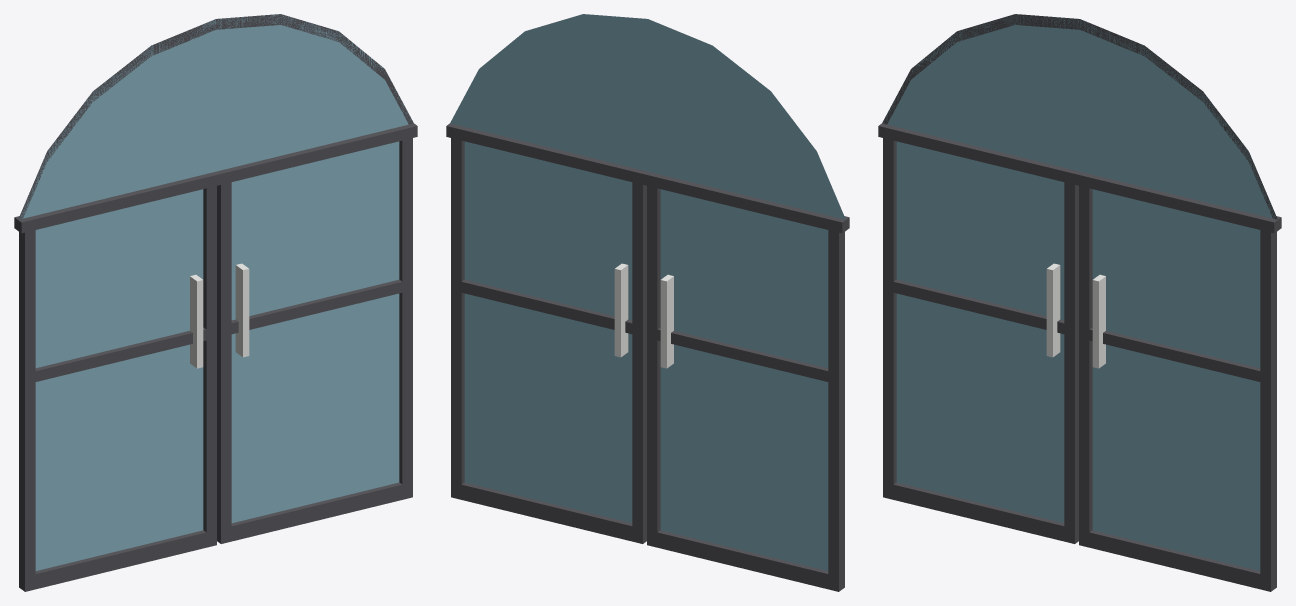
The model's file is porta_vidro.glb.
The picture shows the model from 3 angles, left to right: view 1: azimuth 30°, elevation 25°; view 2: azimuth 150°, elevation 25°; view 3: azimuth 330°, elevation 25°; orthographic projection.
Parts seen in each view (by area): view 1: Malha_1, Malha_0, BandeiraFixa_2; view 2: Malha_1, Malha_0, BandeiraFixa_2; view 3: Malha_0, Malha_1, BandeiraFixa_2.
Boxes of the visible parts, box(x1,y1,x2,y2) form: Malha_1: box(19, 173, 216, 591); Malha_0: box(217, 127, 412, 543); BandeiraFixa_2: box(14, 14, 417, 233); Malha_1: box(647, 172, 844, 591); Malha_0: box(451, 125, 646, 543); BandeiraFixa_2: box(446, 14, 849, 233); Malha_0: box(1079, 172, 1276, 591); Malha_1: box(883, 125, 1078, 543); BandeiraFixa_2: box(878, 14, 1281, 233).
Size of the model in its own units: 1.9 by 2.4 by 0.12.
